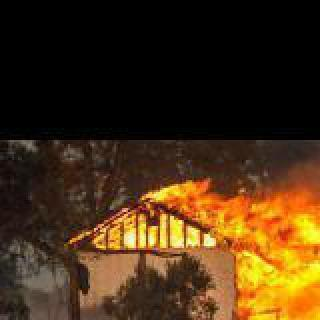fire: (54, 150, 320, 320)
